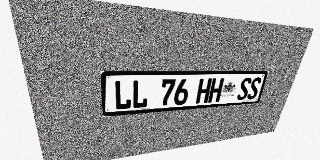6: (173, 79, 190, 105)
7: (159, 79, 176, 107)
H: (195, 78, 212, 104), (208, 78, 224, 103)
L: (114, 80, 132, 110), (132, 80, 149, 109)
S: (236, 77, 252, 100), (246, 77, 262, 100)
